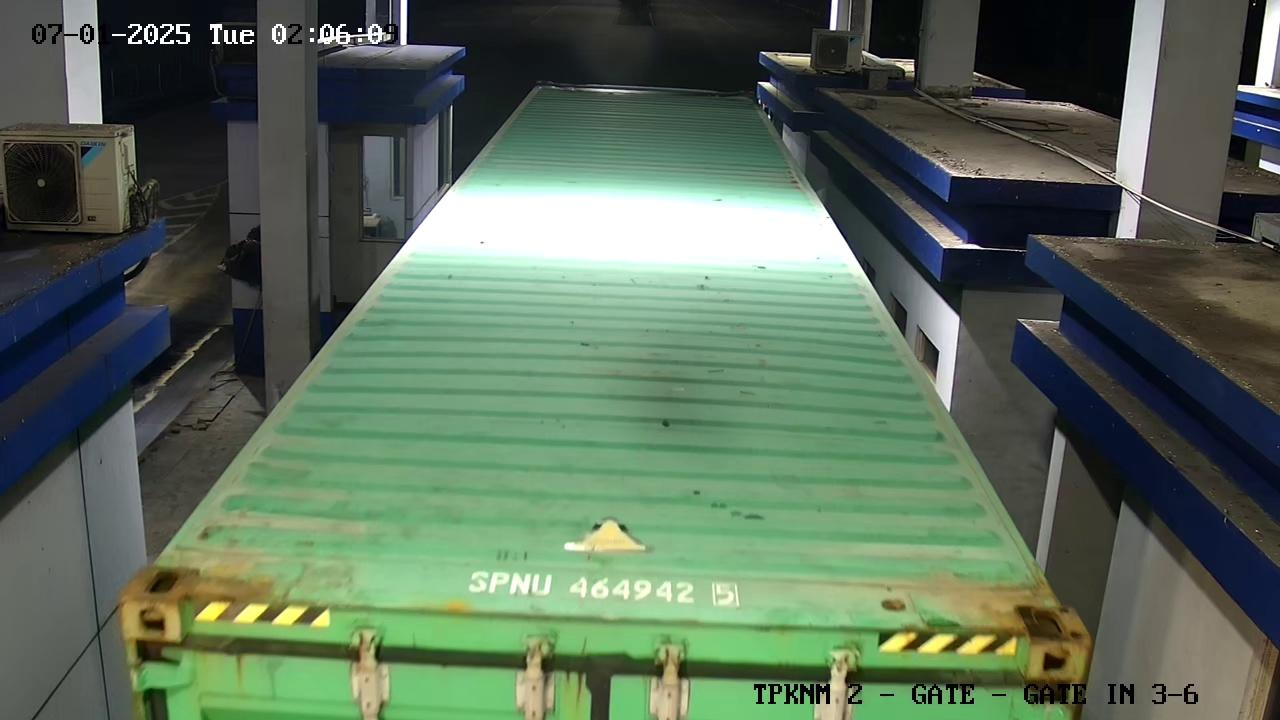Container_ID: (459, 556, 760, 620)
